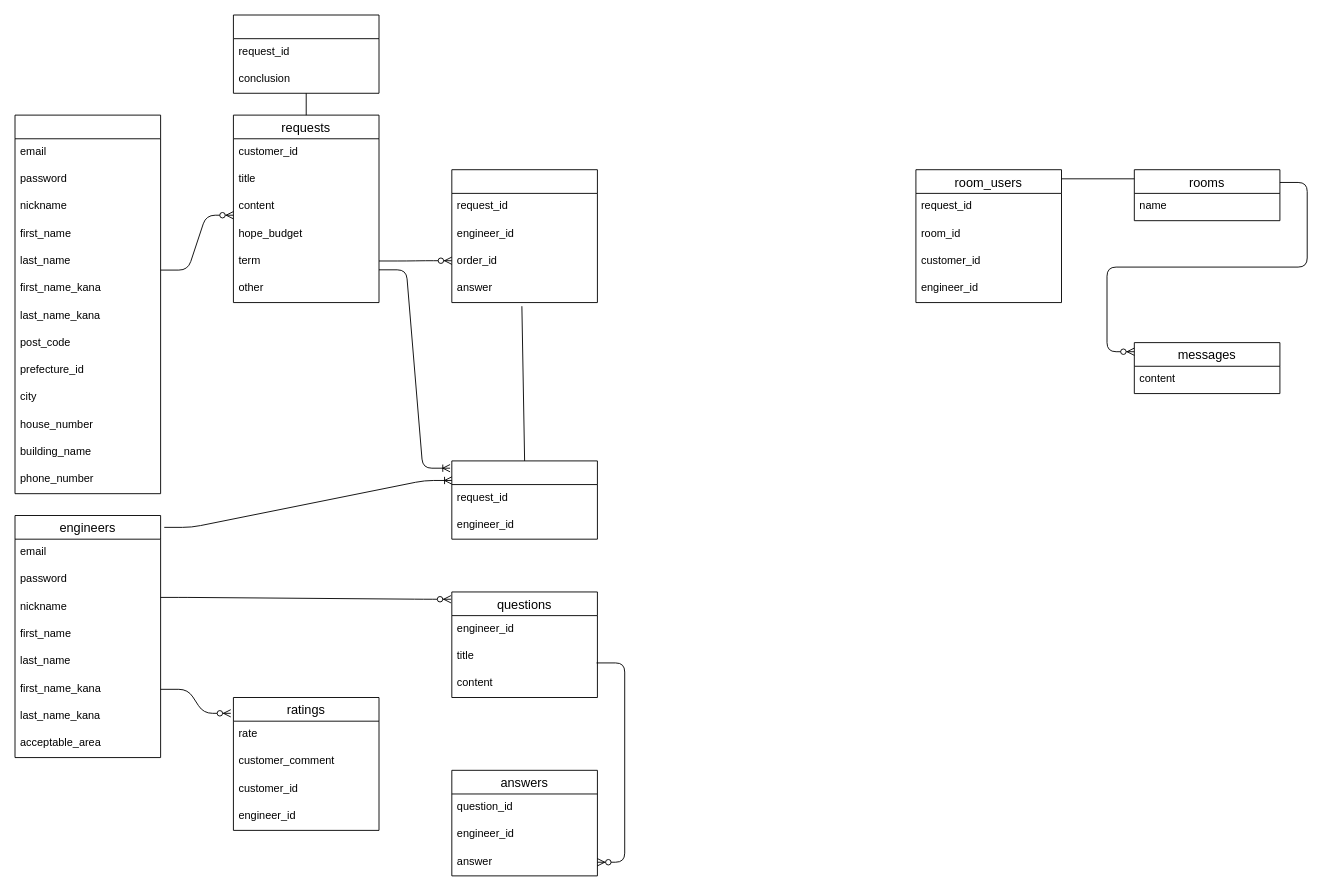
This 1322x891 diagram has some shape labels left out. The box of each missing label's shape, as (x1, y1, x2, y2) in pixels:
agreements: (451, 169, 597, 303)
completes: (233, 14, 379, 93)
customers: (14, 114, 161, 494)
orders: (451, 460, 597, 539)
